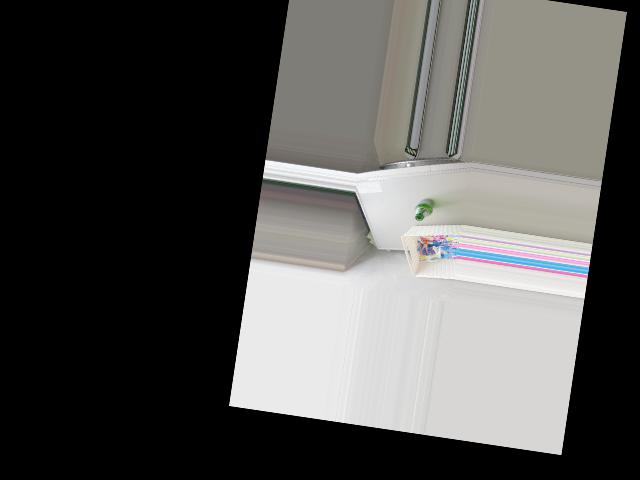beer: (414, 196, 435, 222)
